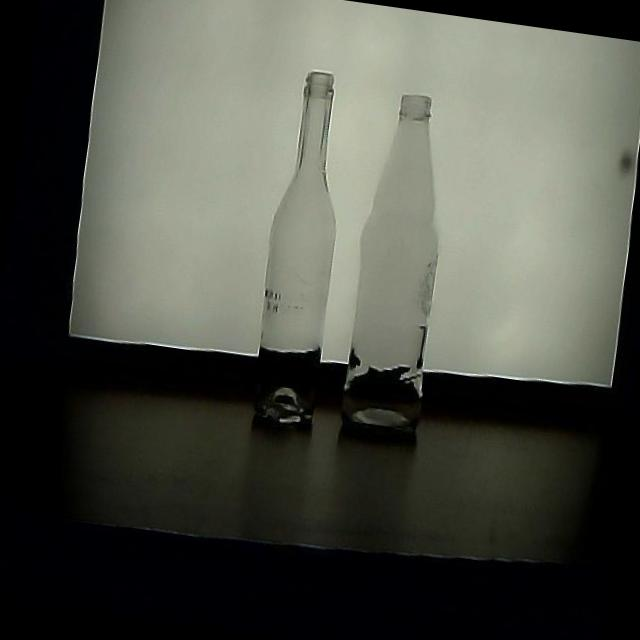BotolKaca: (334, 87, 467, 441), (242, 66, 364, 433)
